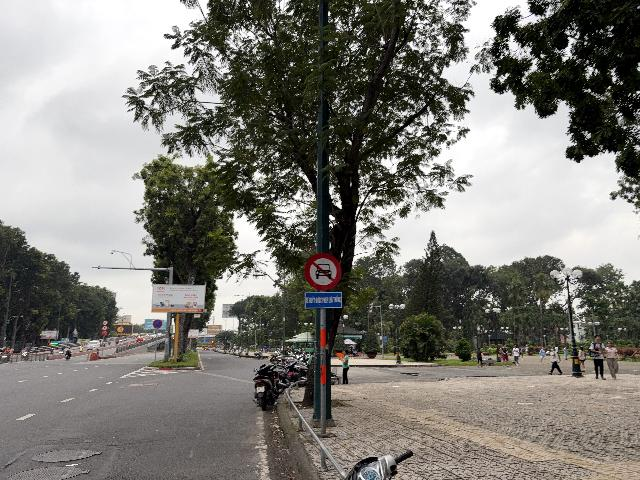cam-o-to: (304, 253, 341, 291)
